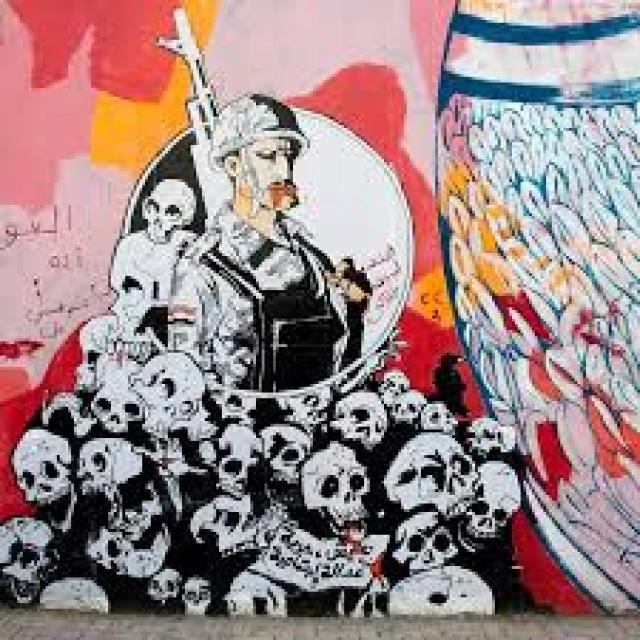-: (0, 8, 522, 640), (437, 1, 640, 614)
